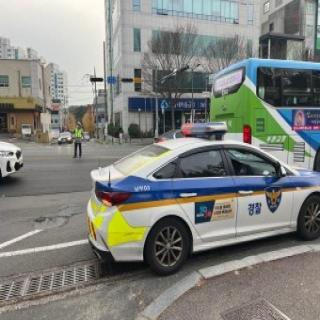Police_car: (85, 120, 320, 278)
